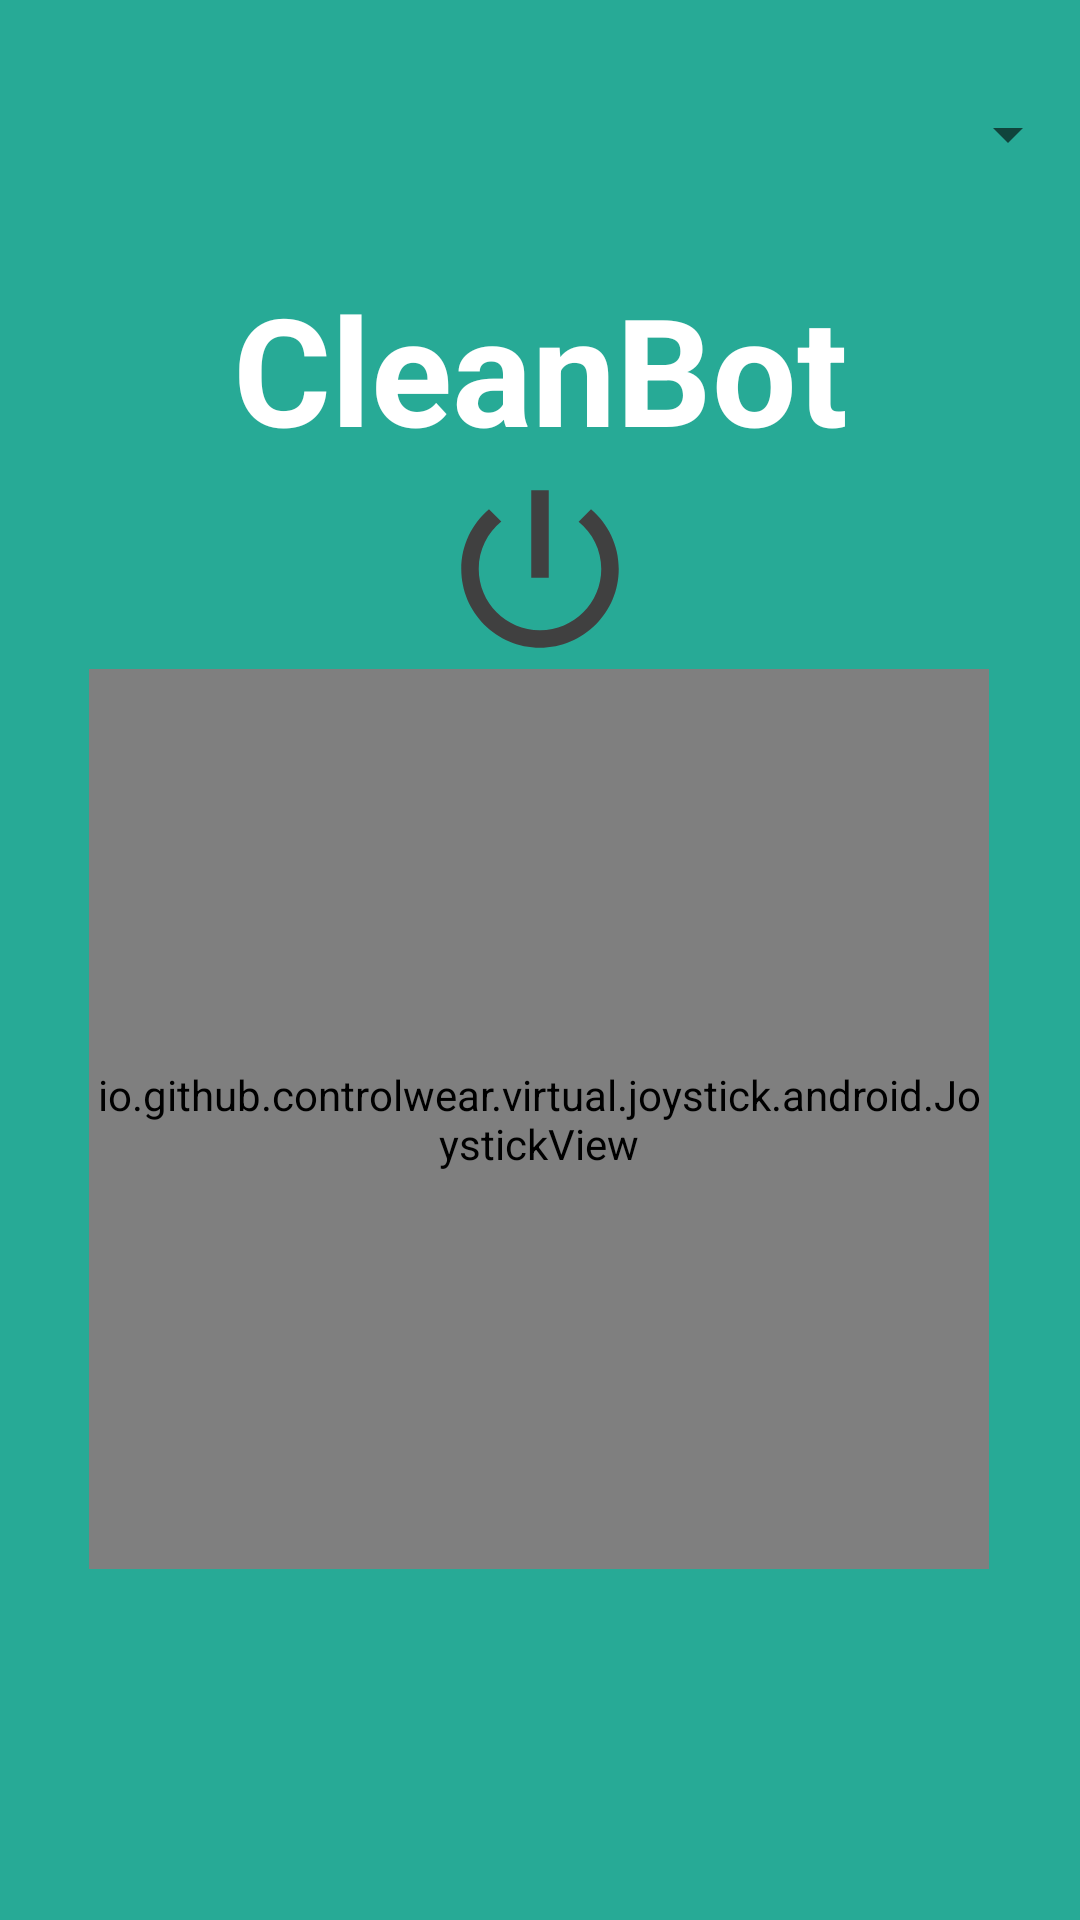

Icon bounding boxes for this 1080x1920 phone screenshot, format (x1, y1, x2, y2):
power: (461, 490, 619, 648)
